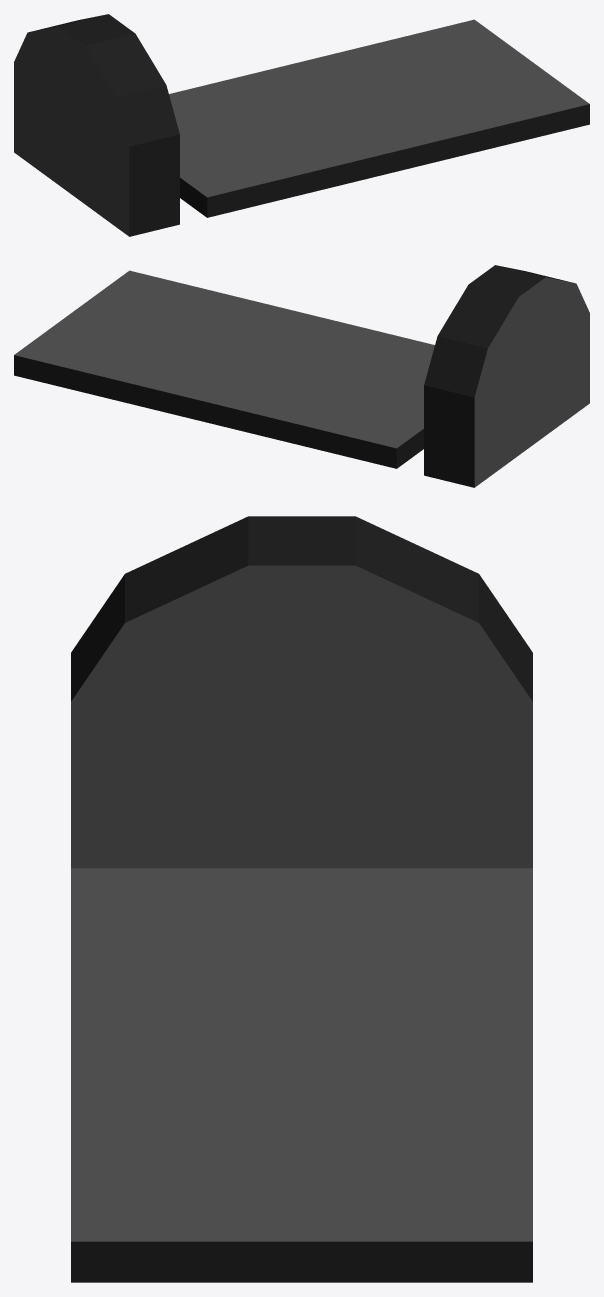
The model's file is GraveUV.fbx.
3 views of the same model, one above another, from view 1: azimuth 30°, elevation 25°; view 2: azimuth 150°, elevation 25°; view 3: azimuth 270°, elevation 25° (orthographic). The views are drawn at different scales.
Visible parts, largest first — view 1: Cube; view 2: Cube; view 3: Cube.
Part boxes in pixels (left/top/right/bottom): Cube: left=14, top=14, right=589, bottom=236; Cube: left=14, top=265, right=589, bottom=487; Cube: left=71, top=516, right=532, bottom=1282.
Bounding box in the file's own units: 241 × 79.13 × 104.
